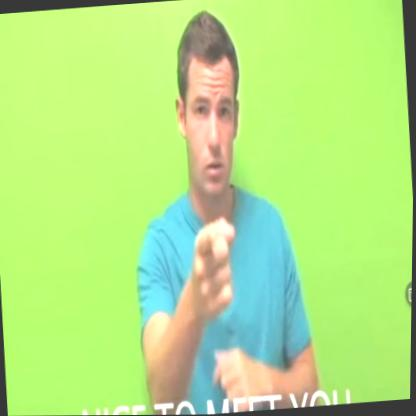NiceToMeetYou: (179, 194, 291, 415)
